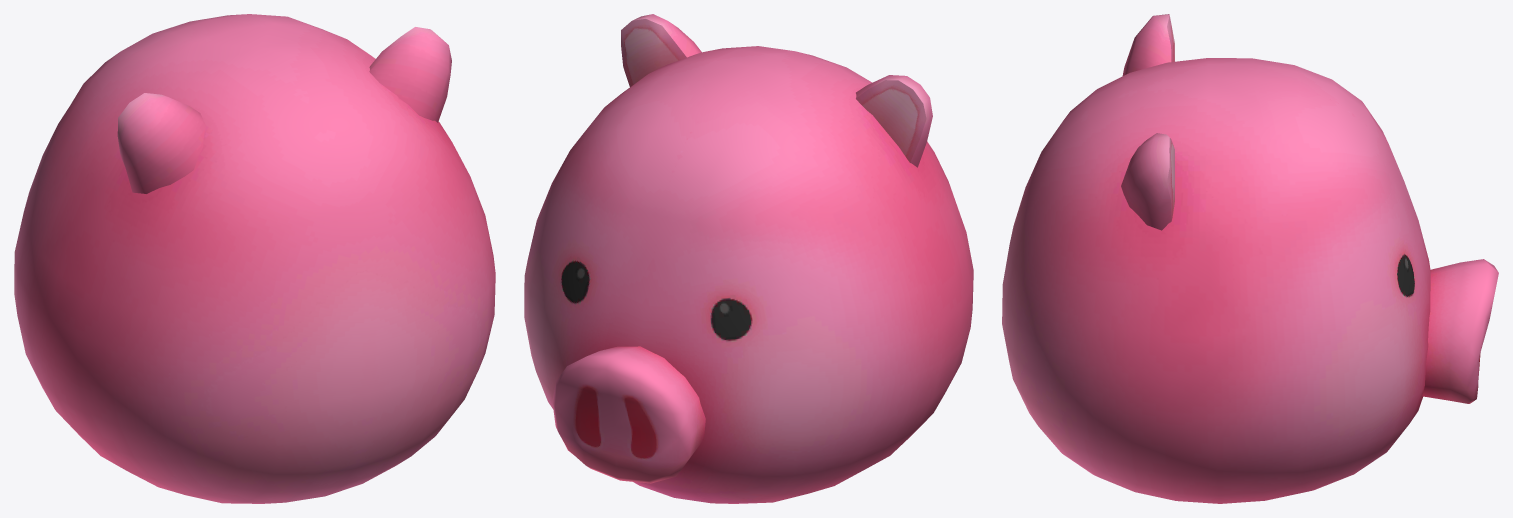
The model's file is Pig.glb.
3 renders of one model, left to right at view 1: azimuth 30°, elevation 25°; view 2: azimuth 150°, elevation 25°; view 3: azimuth 270°, elevation 25°, orthographic. The views are drawn at different scales.
Visible parts, largest first — view 1: Pig; view 2: Pig; view 3: Pig.
Part boxes in pixels (x1,y1,x2,y2): Pig: (14, 14, 495, 503); Pig: (524, 14, 973, 503); Pig: (1002, 14, 1498, 503).
Bounding box in the file's own units: 0.8407 × 0.8456 × 0.9475.
1 material, 1 textured.
